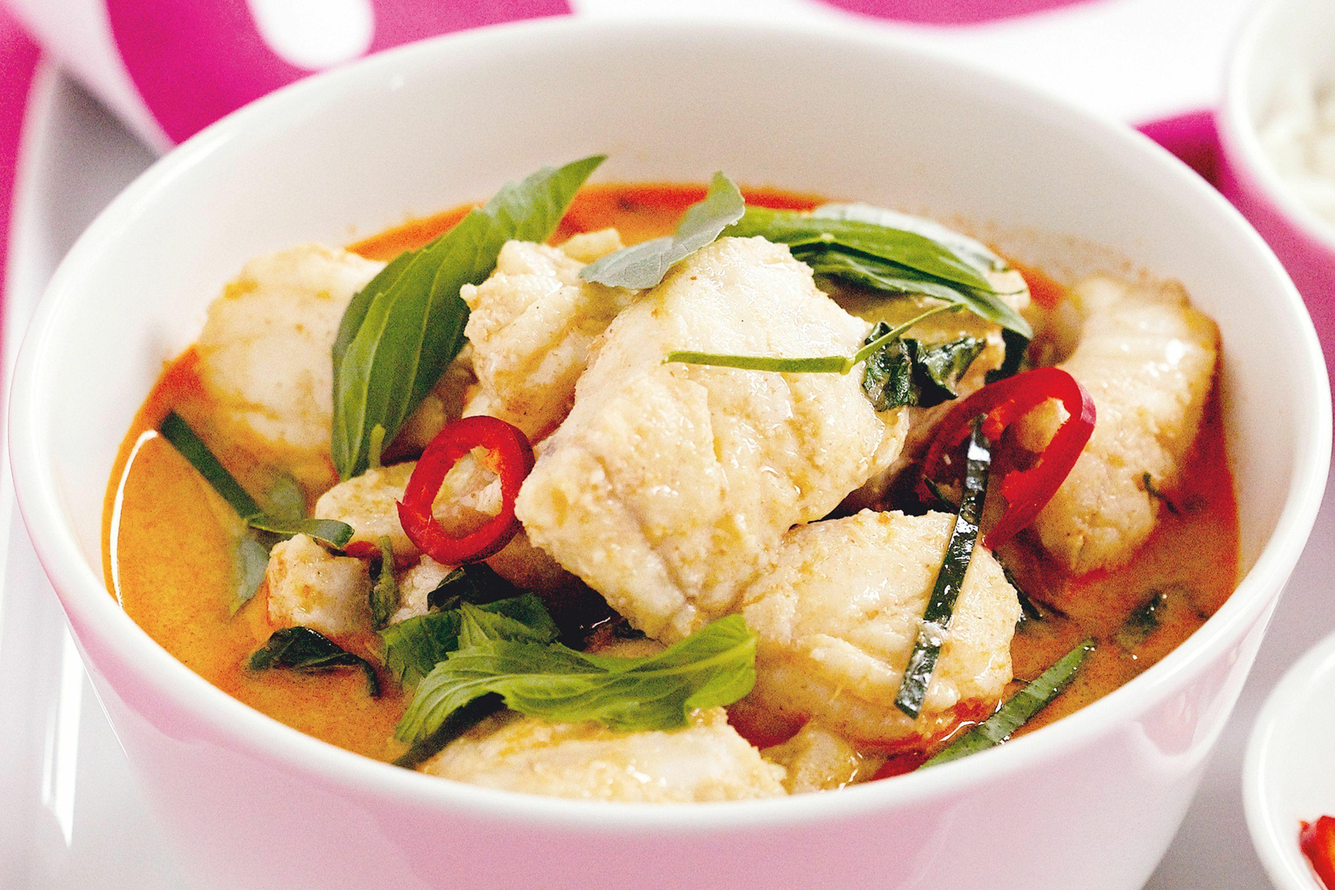FishCurry: (107, 148, 1244, 806)
